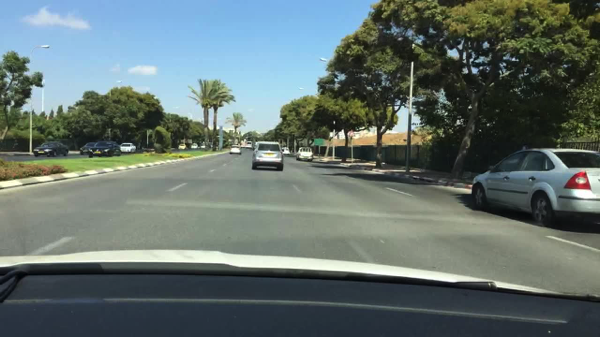car: (470, 148, 599, 225), (251, 140, 283, 171), (87, 140, 121, 158), (32, 141, 68, 158), (295, 147, 314, 162), (79, 141, 98, 154), (119, 141, 135, 154), (228, 145, 242, 156), (281, 147, 291, 156), (177, 143, 187, 150), (244, 140, 251, 148), (199, 143, 207, 149), (190, 142, 198, 148)
traffic sign: (312, 137, 325, 147)
